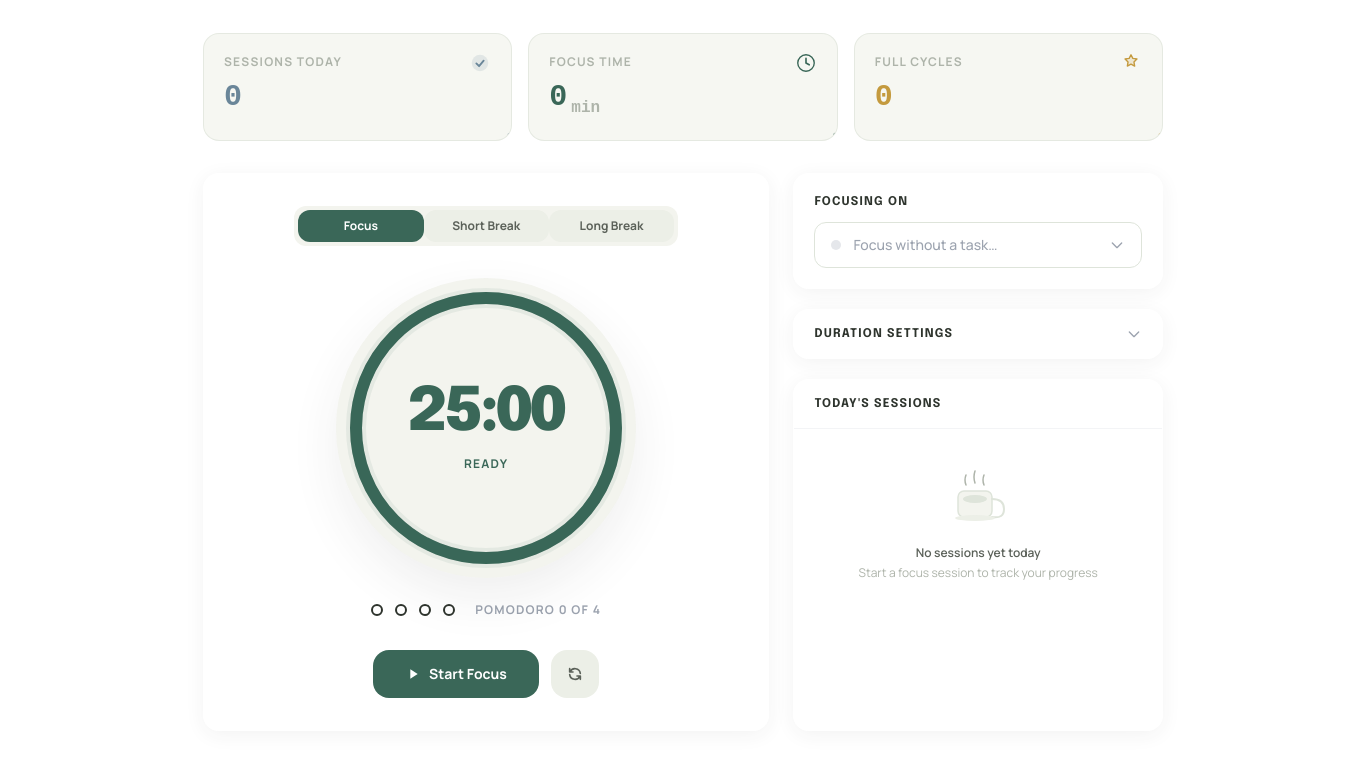
Test case: TimerPage — reset › PT-08: reset returns display to 25:00 and phase to Ready
(page scrolled)
Step 1. Click the button "Start Focus" → x=456, y=674, box x1=373 y1=650 x2=539 y2=698
Wait 10000 ms
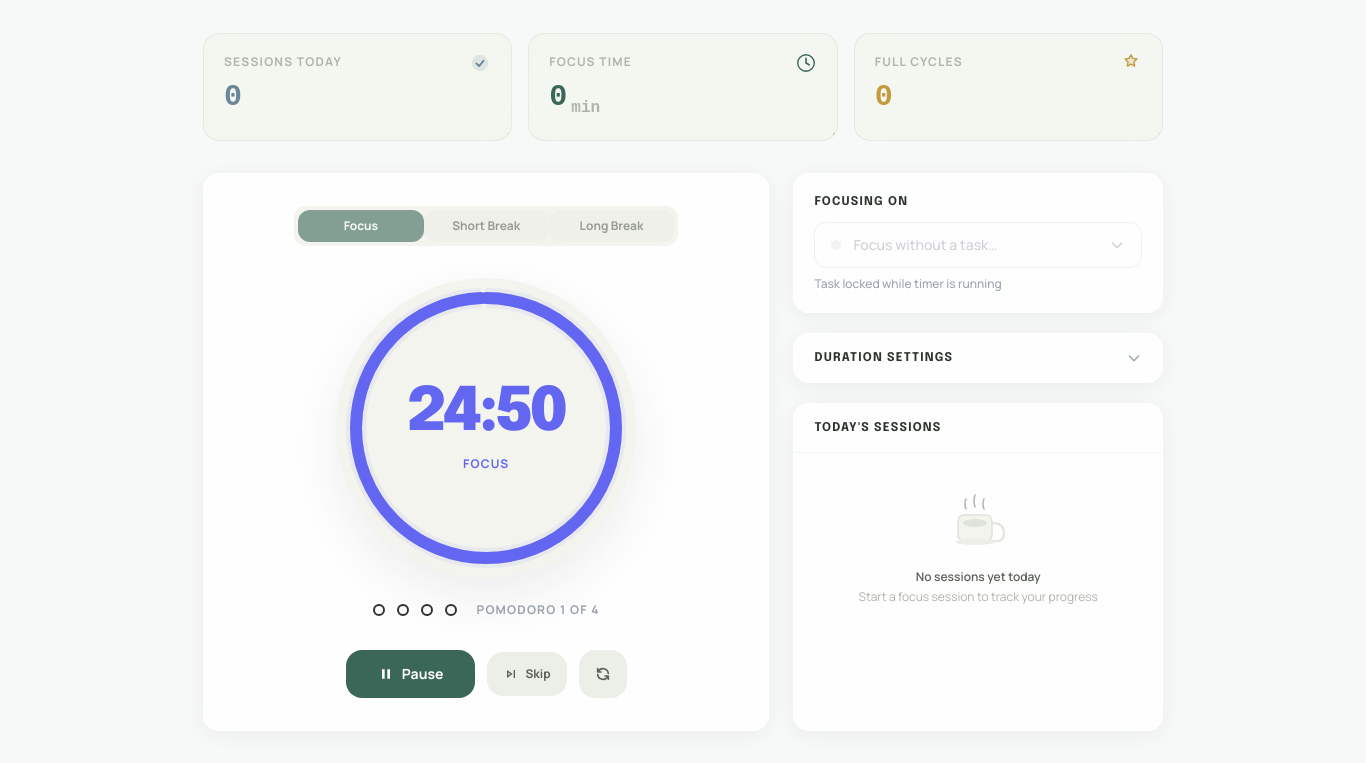
Step 2. Click the button named "reset" → x=602, y=674, box x1=578 y1=650 x2=626 y2=698
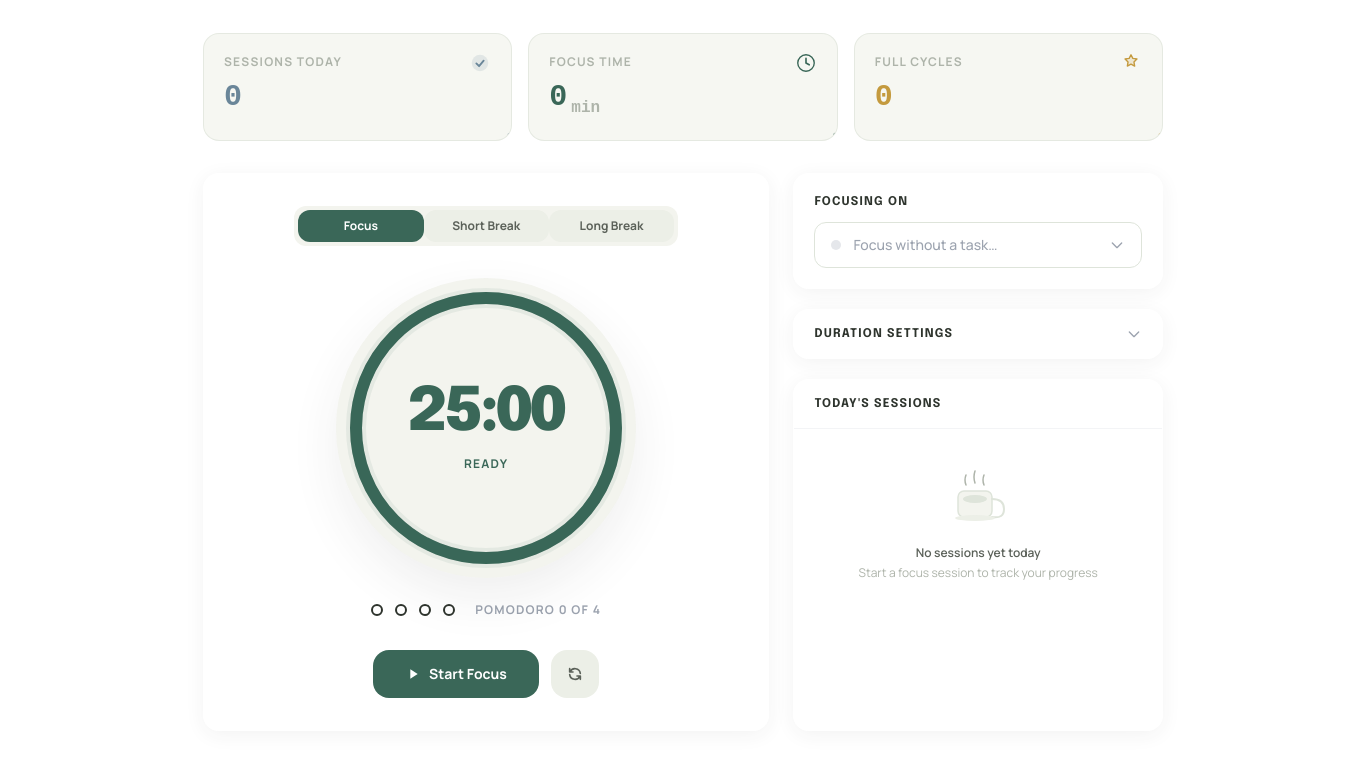
expect the text with test id "timer-display" reads "25:00": met, box x1=409 y1=383 x2=564 y2=444
expect the text with test id "phase-label" reads "Ready": met, box x1=464 y1=455 x2=508 y2=472
